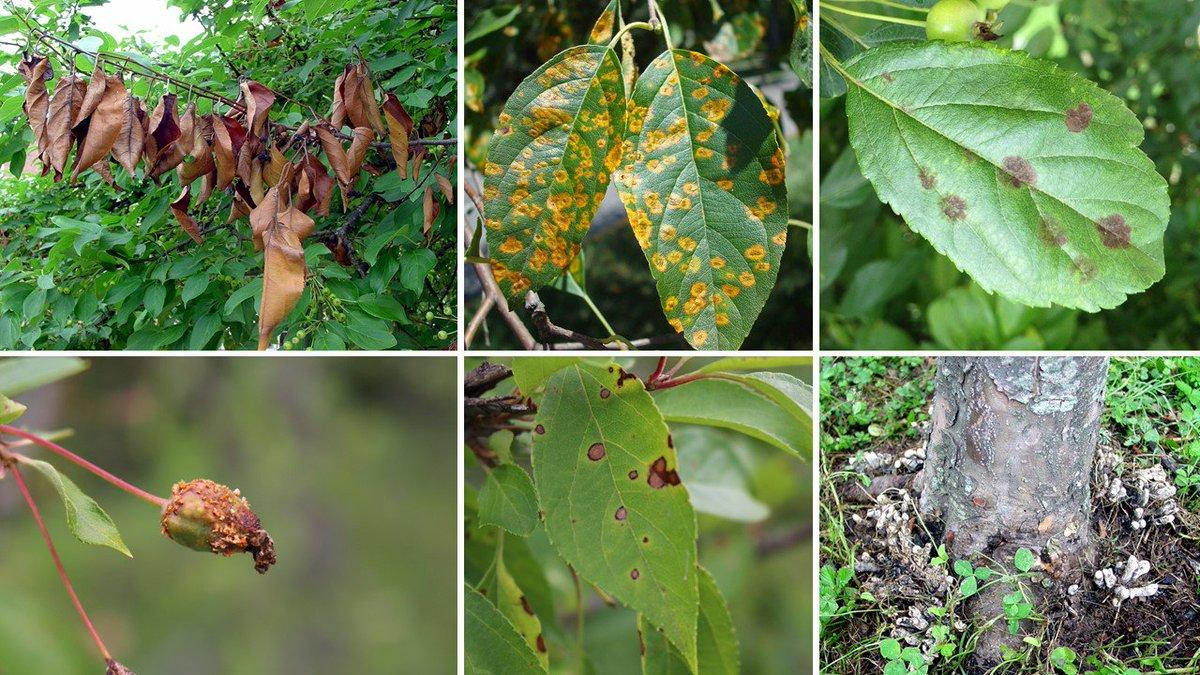Apple rust leaf: (467, 5, 812, 348)
